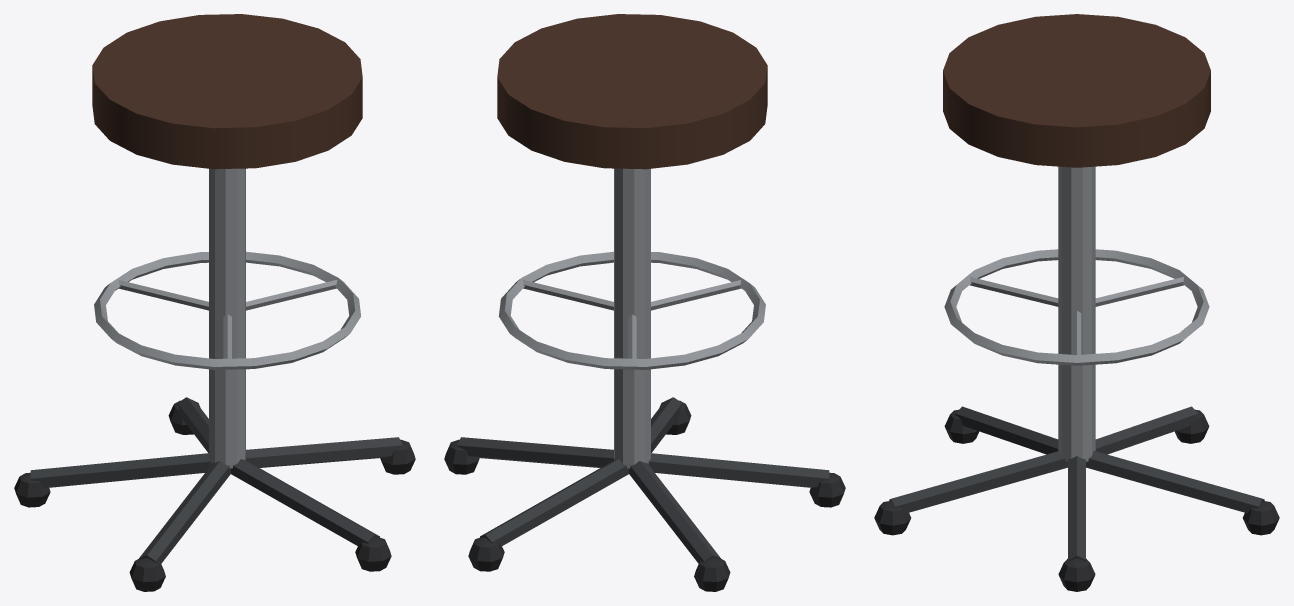
File: prop_stool_shop.glb
3 renders of one model, left to right at view 1: azimuth 30°, elevation 25°; view 2: azimuth 150°, elevation 25°; view 3: azimuth 270°, elevation 25°, orthographic.
Visible parts, largest first — view 1: Stool; view 2: Stool; view 3: Stool.
Part boxes in pixels (box(x1,y1,x2,y2)): Stool: box(14, 14, 415, 591); Stool: box(444, 14, 845, 591); Stool: box(874, 14, 1279, 591).
Size of what is drawn, in the model's own units: 0.5203 by 0.65 by 0.5445.
